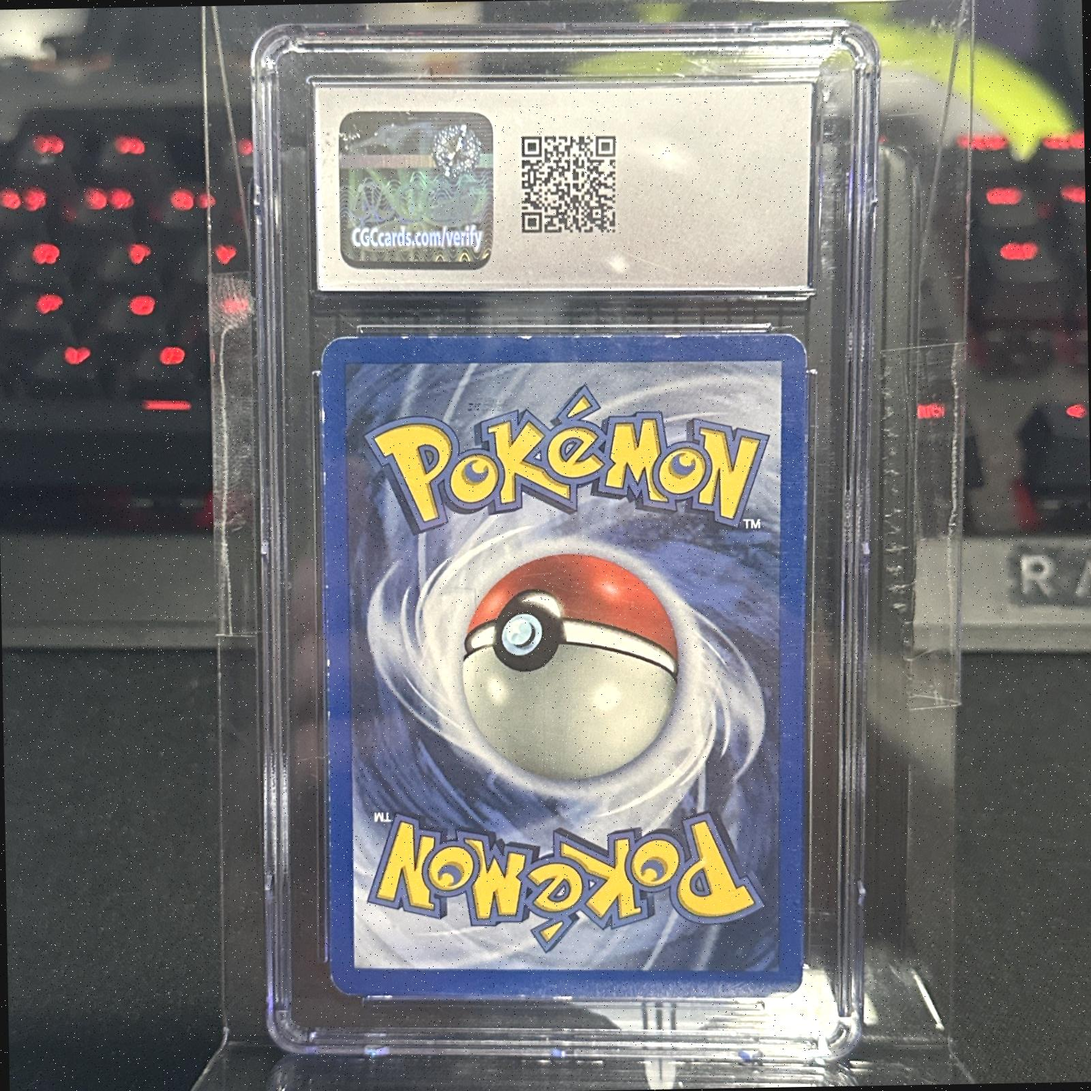card-2UtV: (320, 333, 807, 998)
